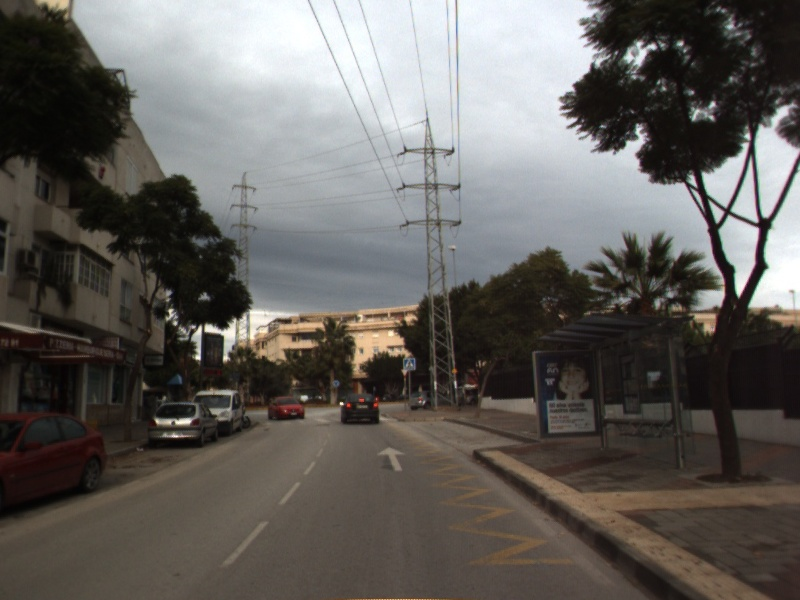STRAIGHT: (375, 444, 408, 473)
